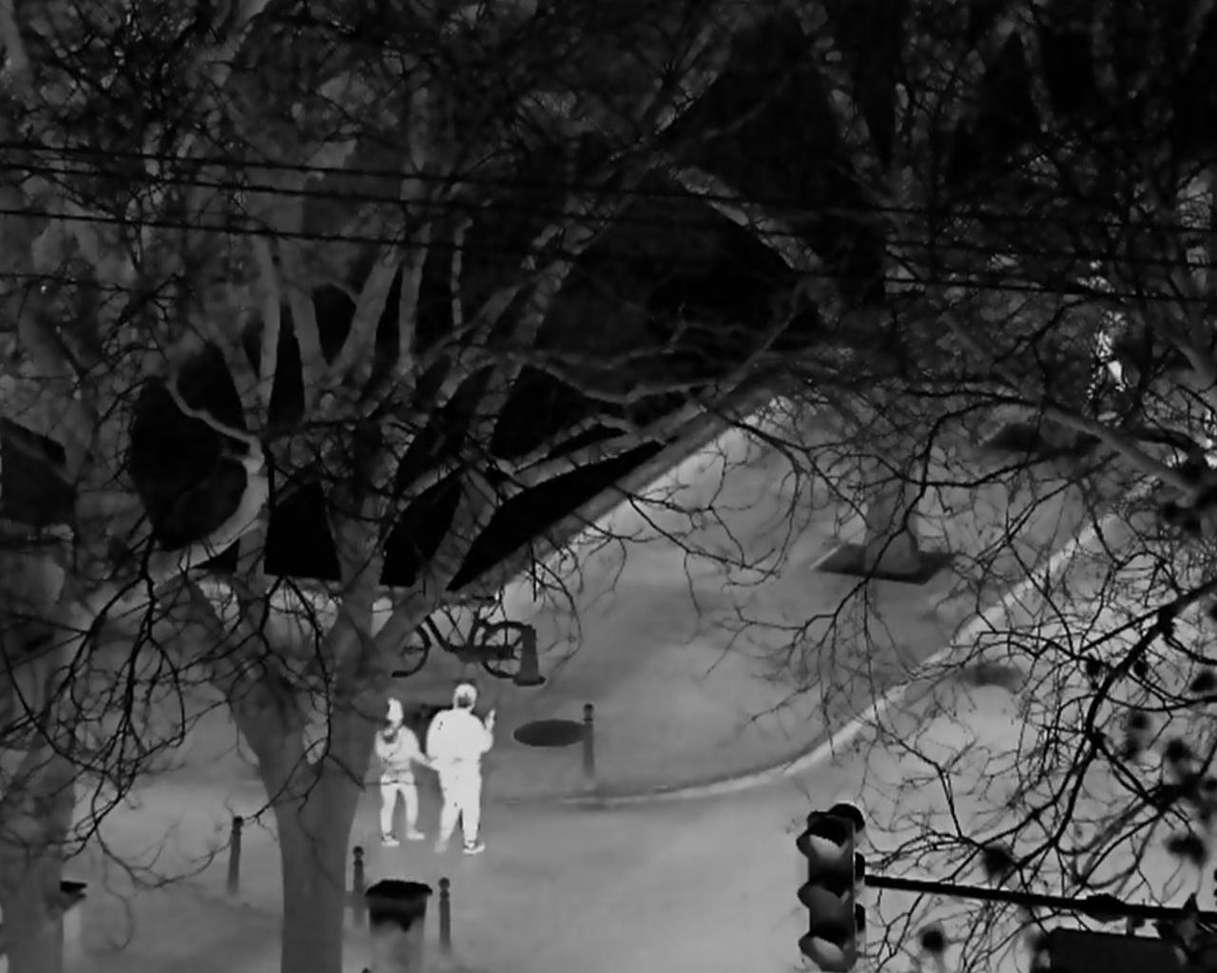person: (426, 681, 494, 854), (375, 697, 426, 850)
